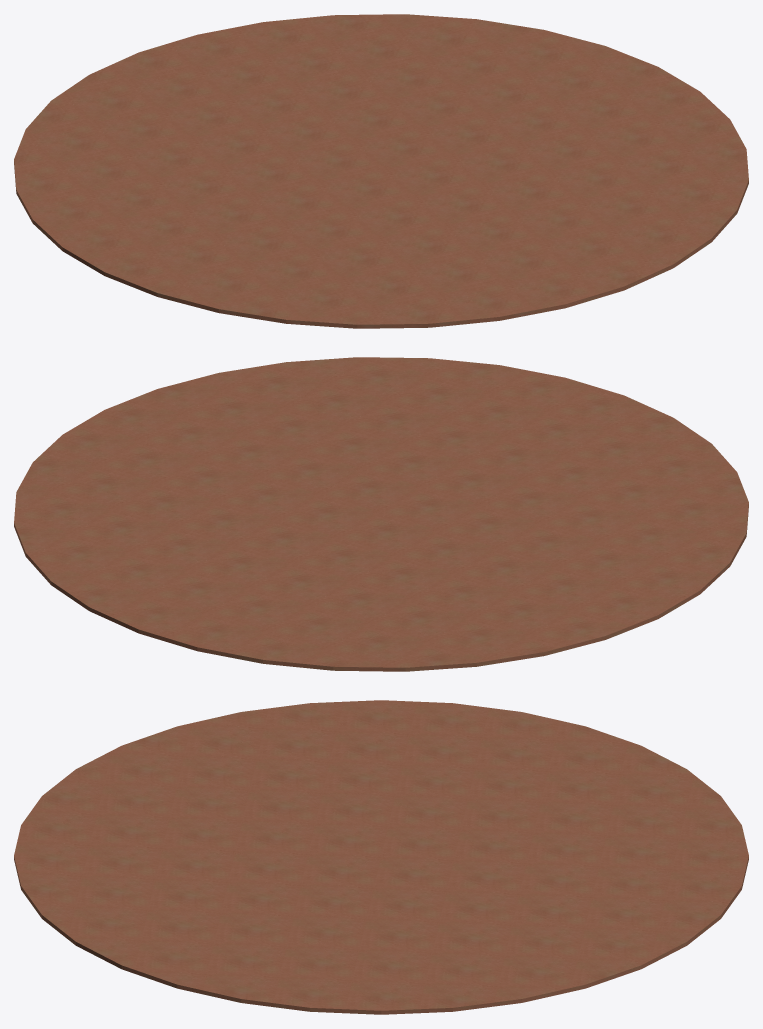
The model's file is TerrenoRedondo.fbx.
3 renders of one model, top to bottom at view 1: azimuth 30°, elevation 25°; view 2: azimuth 150°, elevation 25°; view 3: azimuth 270°, elevation 25°, orthographic.
Visible parts, largest first — view 1: Cylinder.001; view 2: Cylinder.001; view 3: Cylinder.001.
Boxes of the visible parts, x1=… form: Cylinder.001: x1=14, y1=14, x2=748, y2=328; Cylinder.001: x1=14, y1=357, x2=748, y2=671; Cylinder.001: x1=14, y1=700, x2=748, y2=1014.
Bounding box in the file's own units: 4689 × 28.07 × 4689.
1 material, 1 textured.
